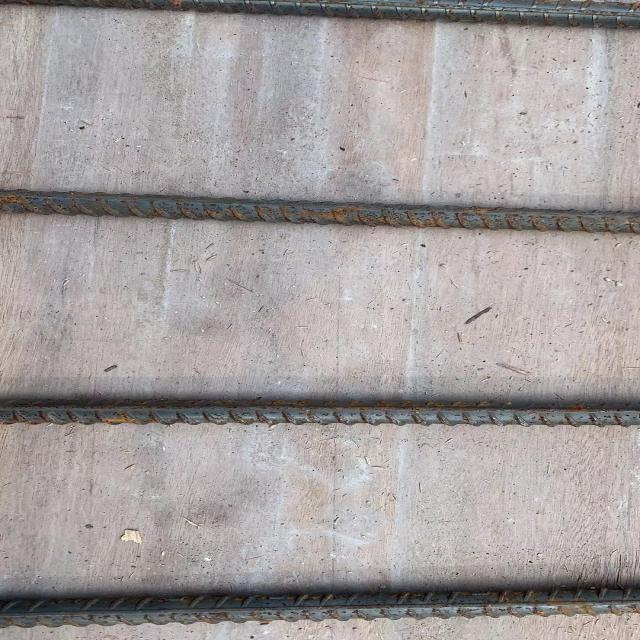ribbed bar: (0, 189, 639, 238), (0, 586, 639, 630), (5, 398, 639, 429)
